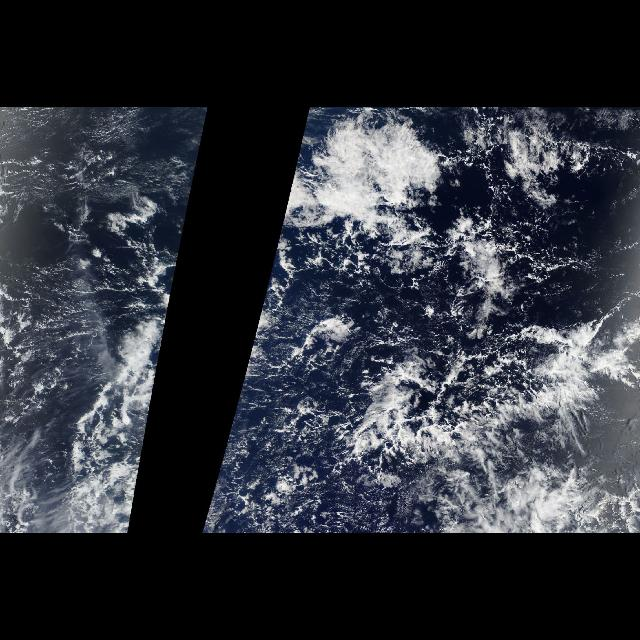Fish: (350, 326, 640, 336)
